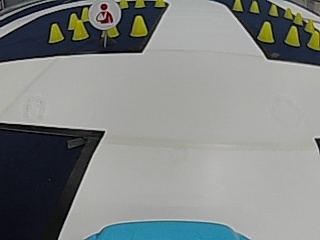cone: (130, 15, 148, 37), (72, 18, 88, 40), (258, 22, 274, 43), (48, 23, 64, 42), (285, 26, 300, 46), (306, 28, 319, 50), (249, 1, 260, 13), (268, 3, 278, 16), (232, 0, 243, 11), (134, 0, 146, 9), (153, 0, 166, 8), (119, 0, 128, 9)
patient: (90, 1, 118, 27)
